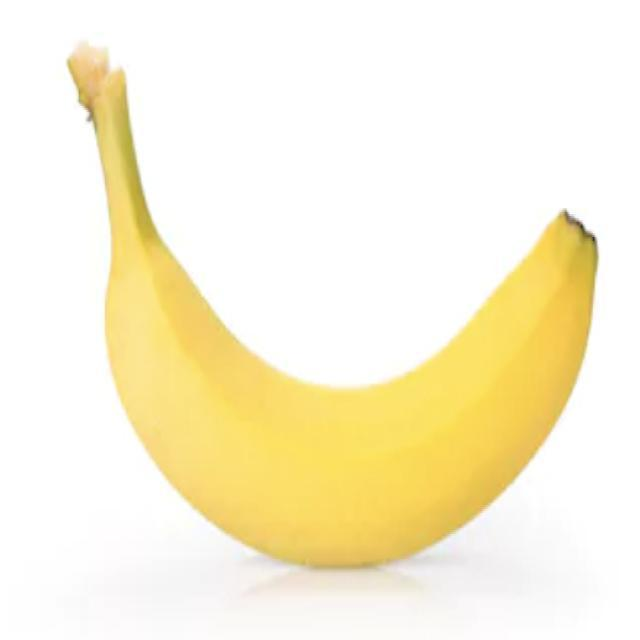Banana: (70, 81, 601, 576)
